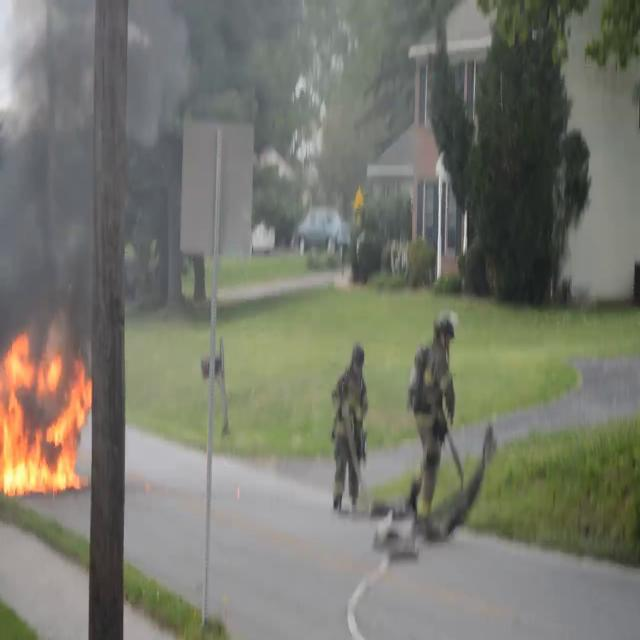Fire: (0, 330, 94, 498)
Smoke: (0, 2, 118, 367)
